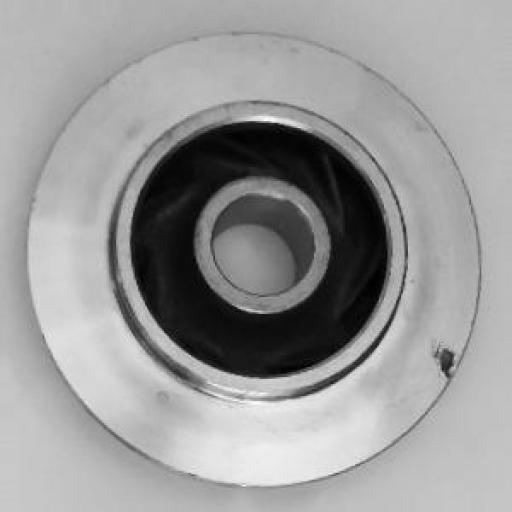defect: (407, 330, 482, 411)
